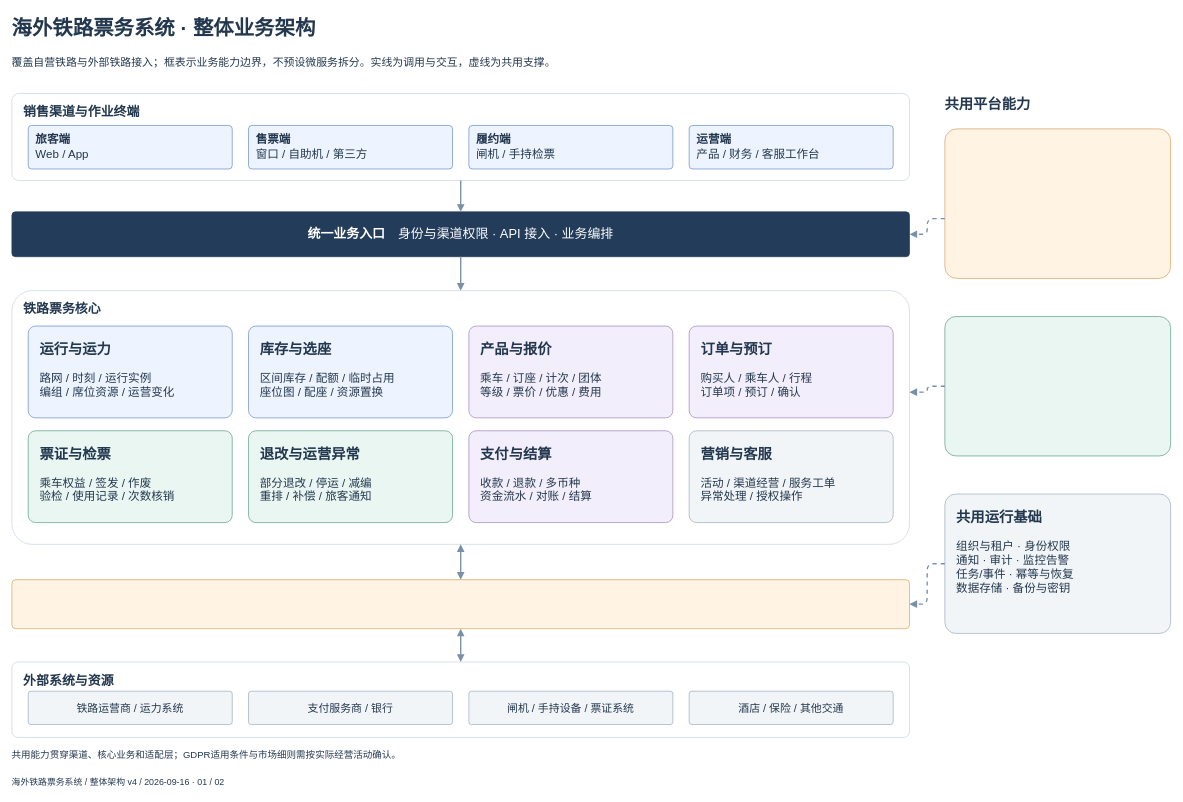
The diagram is 1183 pixels wide and 802 high, and some of its shapes have lost their labels. Each missing label, with the centre of its shape:
外部系统适配 铁路供应接口 · 支付接口 · 票证与设备协议 · 外部产品接口: the point at 460,604
多市场配置与扩展 国家/市场 · 运营商 · 产品 品牌/渠道 · 语言/UI 定价/配座策略 · 支付/币种 规则与配置版本管理 详见图02: the point at 1057,203
隐私与数据治理 处理目的 · 权限 · 最少收集 GDPR权利 · 保留与删除 区域部署 · 跨境数据流 接收方管理 · 事件响应: the point at 1057,386
